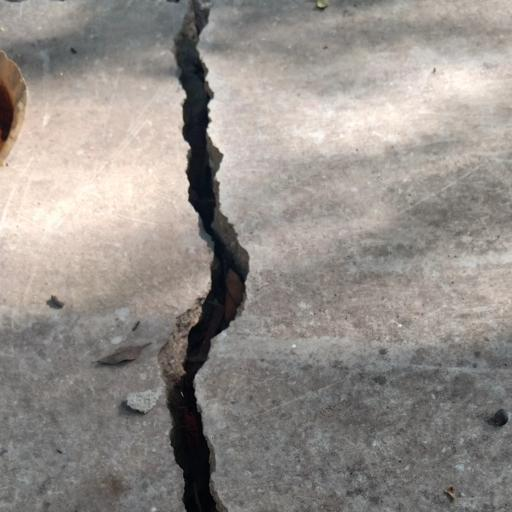major_crack: (160, 0, 266, 512)
